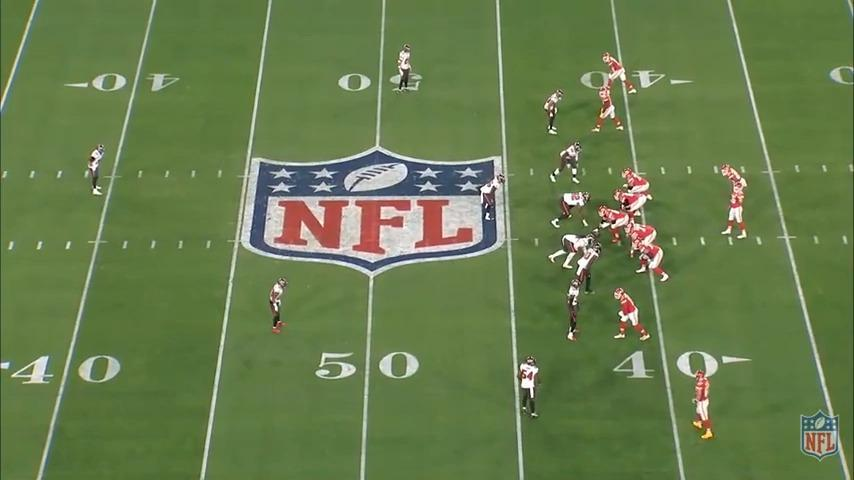defense: (513, 353, 541, 422), (547, 235, 598, 271), (265, 272, 292, 337), (549, 191, 593, 229), (550, 141, 587, 186), (477, 173, 505, 228), (563, 281, 585, 346), (572, 244, 600, 295), (394, 43, 419, 95), (85, 142, 108, 198), (544, 88, 566, 137)
oline: (634, 239, 672, 285), (595, 205, 633, 244), (624, 222, 657, 261), (613, 191, 645, 227), (621, 168, 653, 202)
qb: (719, 178, 749, 240)
skill: (611, 287, 652, 345), (688, 370, 716, 446), (719, 160, 750, 215), (598, 49, 635, 94), (593, 85, 626, 134)
